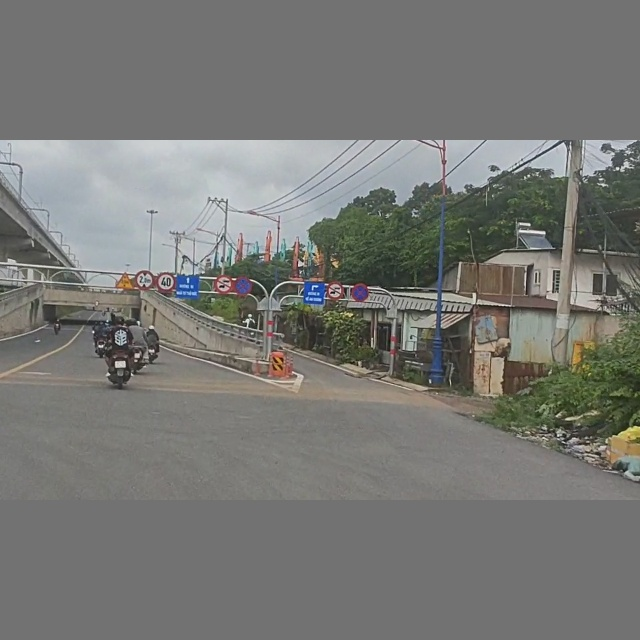P.107: (214, 275, 234, 295), (326, 281, 344, 300)
P.117*: (135, 270, 155, 291)
P.127*40: (157, 272, 175, 292)
P.130: (351, 283, 370, 302), (235, 277, 252, 297)
W.239b*: (115, 271, 134, 290)
